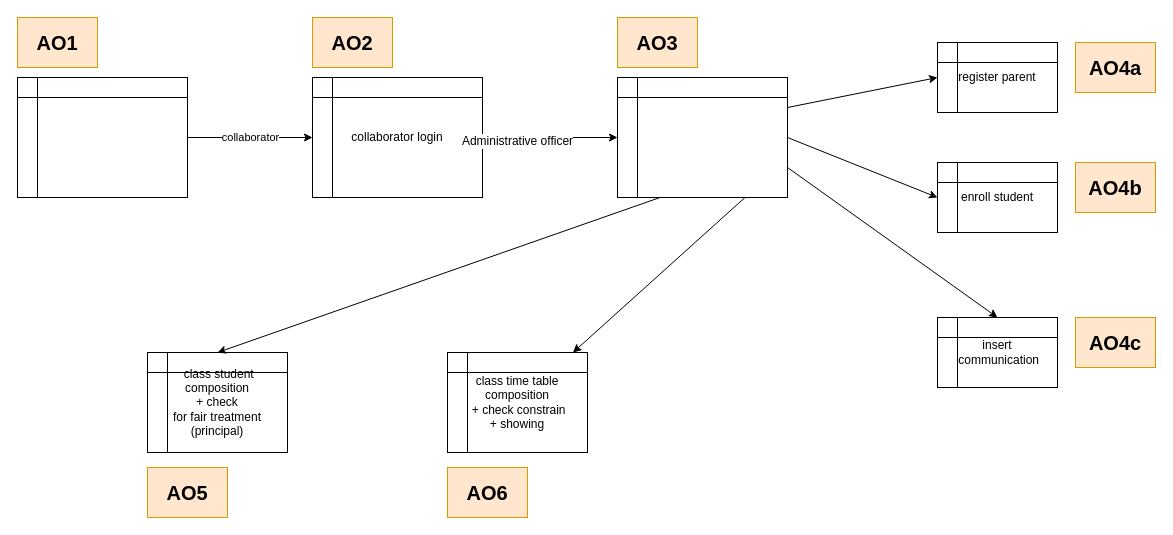
This 1173x535 diagram has some shape labels left out. Here are the shapes that lost their labels. From the top down, the centre of each, then its label:
point 102,137: home choice of login
point 702,137: choose functionality
